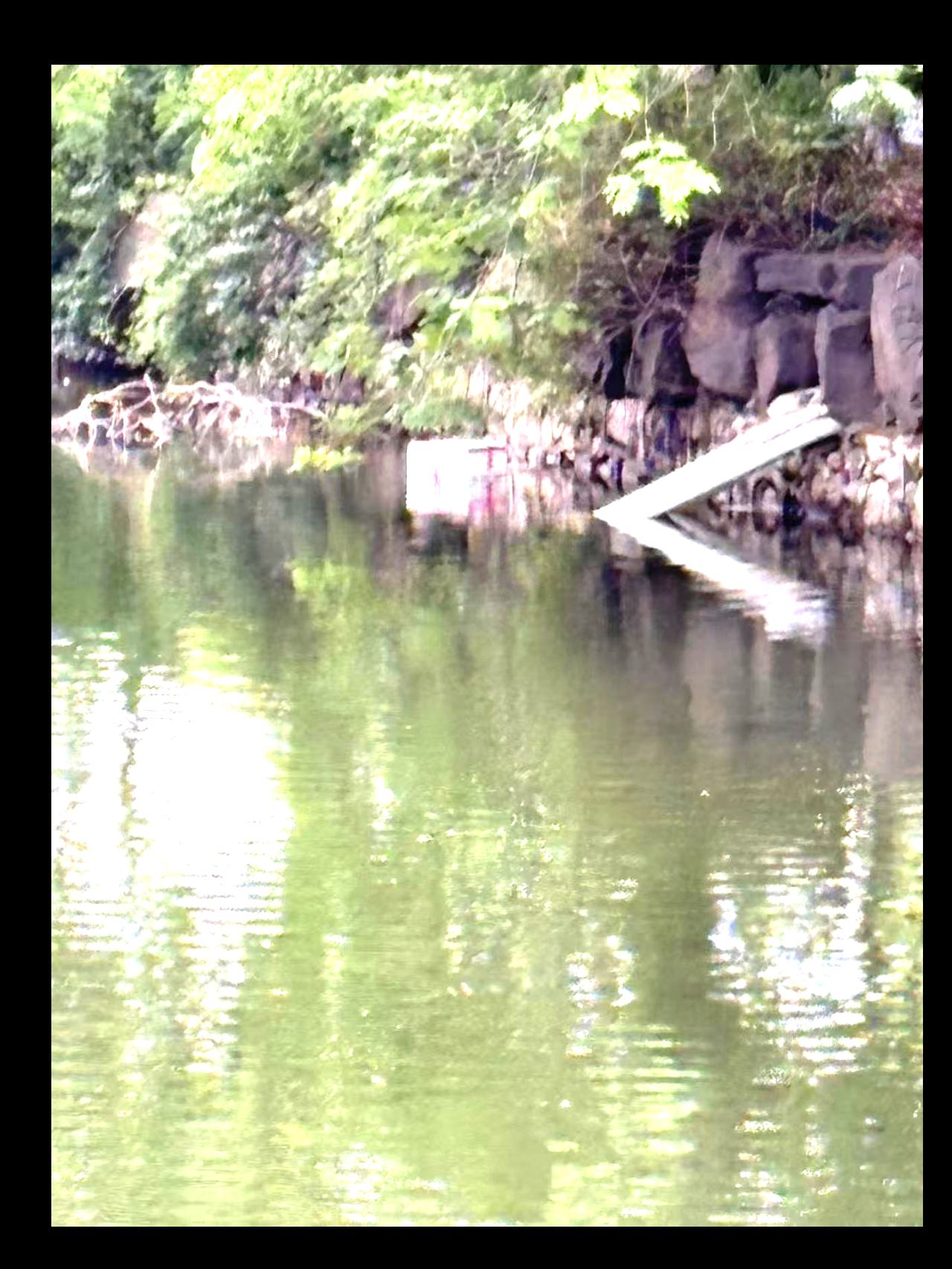Plastic wastes: (402, 432, 514, 497)
